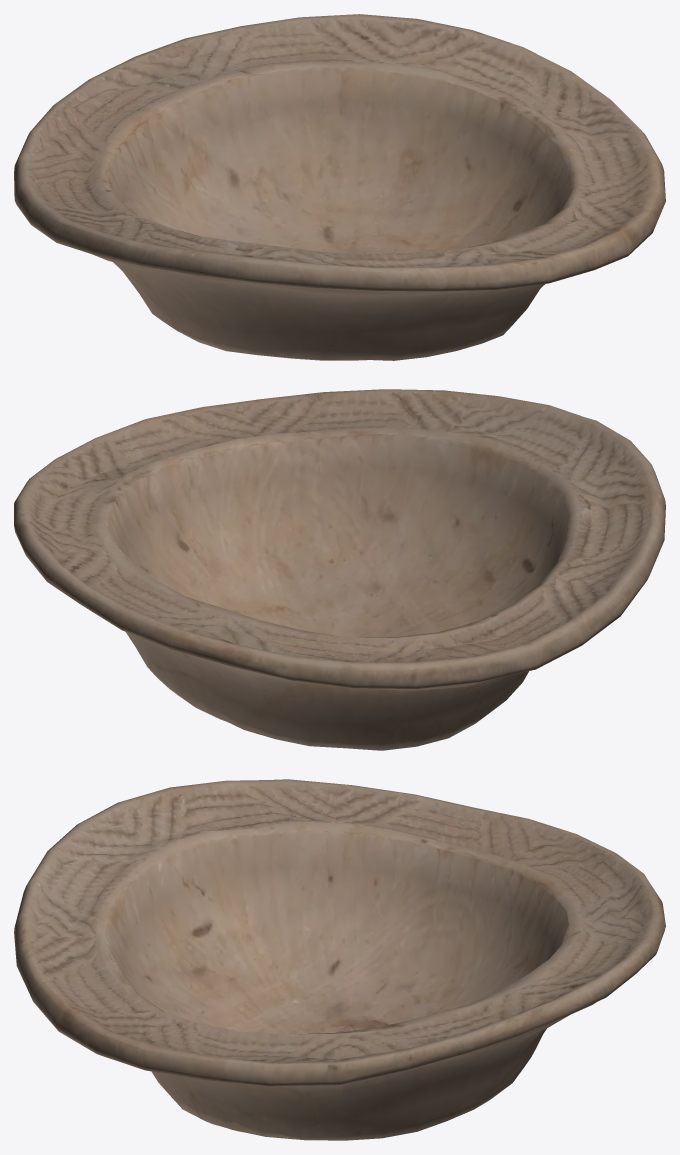
The model's file is plate_wood.glb.
3 renders of one model, top to bottom at view 1: azimuth 30°, elevation 25°; view 2: azimuth 150°, elevation 25°; view 3: azimuth 270°, elevation 25°, orthographic. The views are drawn at different scales.
Visible parts, largest first — view 1: carved_wooden_plate.001; view 2: carved_wooden_plate.001; view 3: carved_wooden_plate.001.
Boxes of the visible parts, <box> form: carved_wooden_plate.001: <box>14,14,665,360</box>; carved_wooden_plate.001: <box>14,389,665,750</box>; carved_wooden_plate.001: <box>14,779,665,1140</box>.
Size of the model in its own units: 6.3 by 1.88 by 6.22.
1 material, 1 textured.
